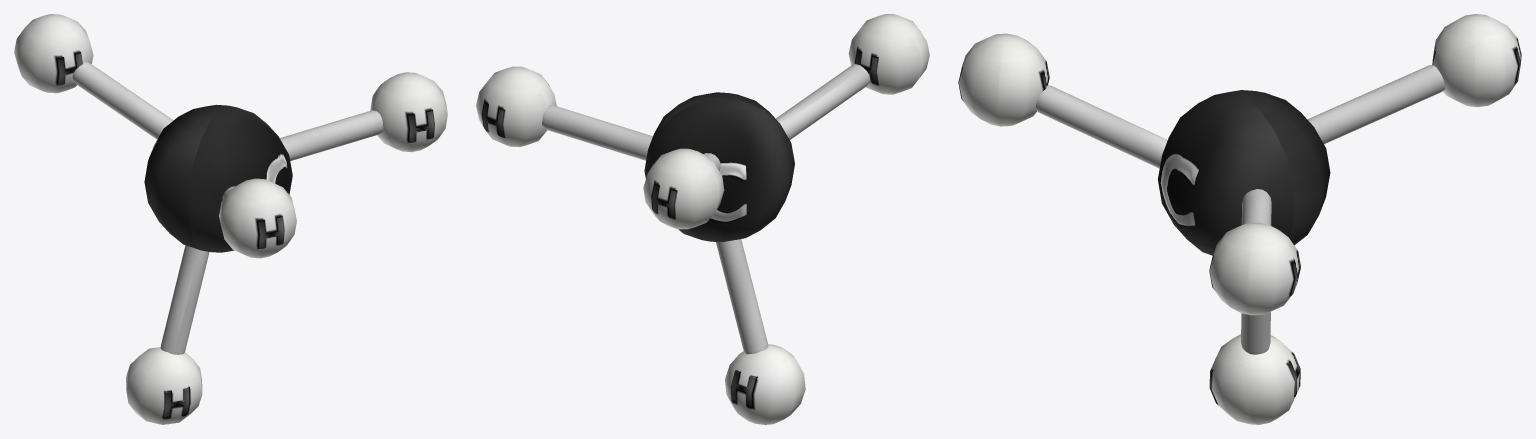
File: methane.fbx
The picture shows the model from 3 angles, left to right: view 1: azimuth 30°, elevation 25°; view 2: azimuth 150°, elevation 25°; view 3: azimuth 270°, elevation 25°; orthographic projection. The views are drawn at different scales.
Visible parts, largest first — view 1: C_Atom, H_Atom_0117, H_Atom_0116, H_Atom_04, H_Atom_0118, Single_Bond_014, Single_Bond_016, Single_Bond_01; view 2: C_Atom, H_Atom_0118, H_Atom_0116, H_Atom_0117, H_Atom_04, Single_Bond_014, Single_Bond_01, Single_Bond_015; view 3: C_Atom, H_Atom_04, H_Atom_0117, H_Atom_0118, H_Atom_0116, Single_Bond_016, Single_Bond_015, Single_Bond_014, Single_Bond_01.
Part boxes in pixels (x1,y1,x2,y2): C_Atom: [144, 104, 292, 252]; H_Atom_0117: [219, 178, 296, 258]; H_Atom_0116: [126, 347, 202, 424]; H_Atom_04: [370, 72, 447, 152]; H_Atom_0118: [14, 14, 93, 93]; Single_Bond_014: [160, 245, 209, 354]; Single_Bond_016: [72, 62, 173, 139]; Single_Bond_01: [279, 110, 383, 160]; C_Atom: [644, 92, 794, 241]; H_Atom_0118: [643, 148, 724, 229]; H_Atom_0116: [725, 344, 805, 424]; H_Atom_0117: [848, 14, 929, 94]; H_Atom_04: [476, 66, 556, 147]; Single_Bond_014: [716, 239, 768, 354]; Single_Bond_01: [542, 105, 652, 160]; Single_Bond_015: [776, 64, 869, 139]; C_Atom: [1158, 90, 1330, 255]; H_Atom_04: [1209, 222, 1300, 315]; H_Atom_0117: [958, 33, 1049, 126]; H_Atom_0118: [1432, 14, 1521, 107]; H_Atom_0116: [1209, 334, 1300, 424]; Single_Bond_016: [1307, 65, 1444, 144]; Single_Bond_015: [1035, 85, 1167, 168]; Single_Bond_014: [1241, 312, 1270, 354]; Single_Bond_01: [1241, 189, 1271, 225].
Bounding box in the file's own units: 111 × 109 × 142.
2 materials, 2 textured.
